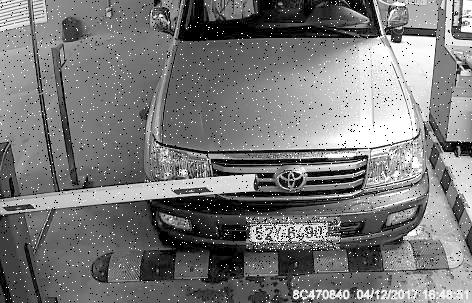License-plate: (248, 219, 343, 252)
